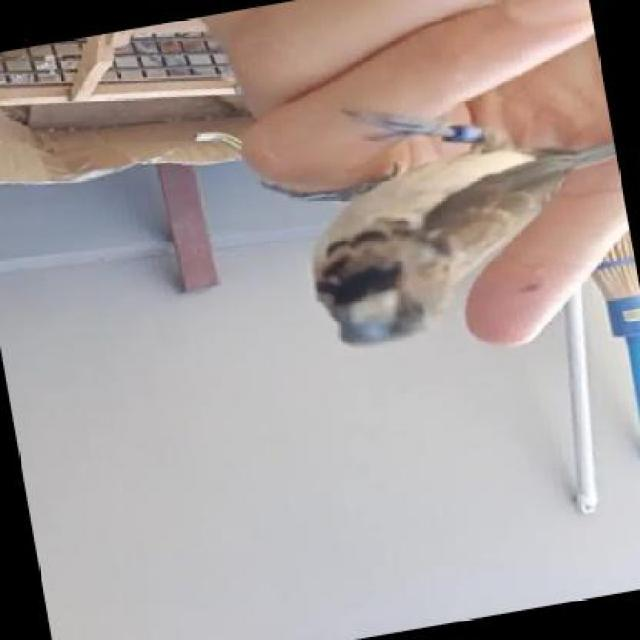Bird: (305, 137, 618, 379)
